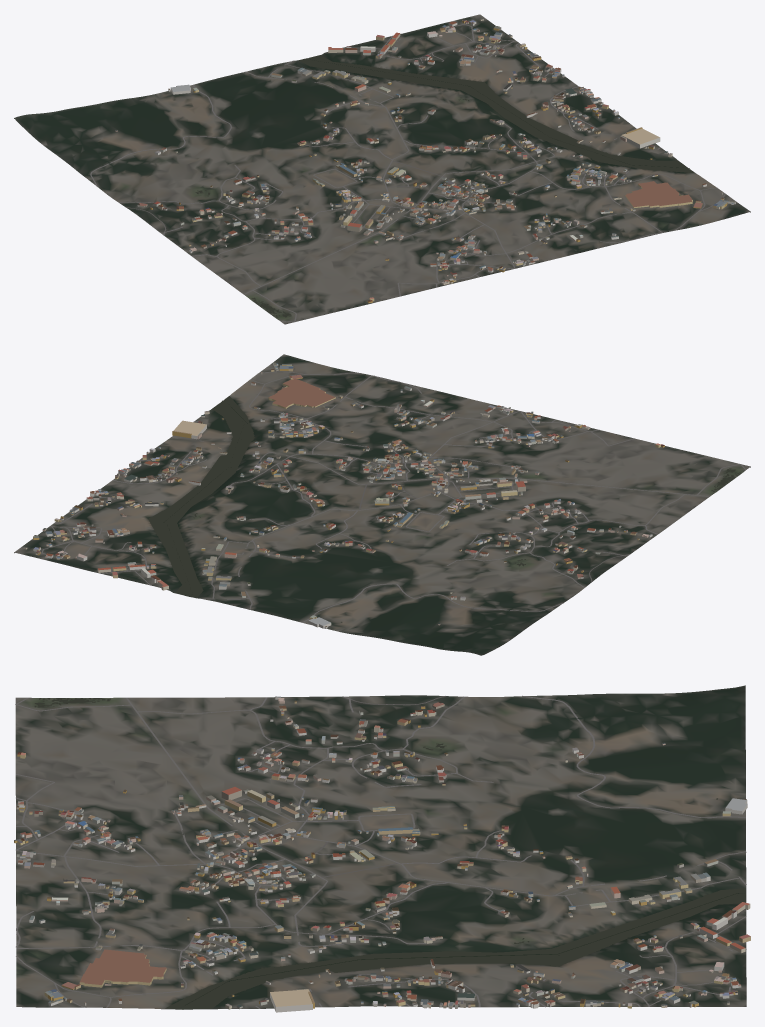
3 renders of one model, top to bottom at view 1: azimuth 30°, elevation 25°; view 2: azimuth 150°, elevation 25°; view 3: azimuth 270°, elevation 25°, orthographic. The views are drawn at different scales.
Visible parts, largest first — view 1: ground, buildings, roads, water; view 2: ground, buildings, roads, water; view 3: ground, buildings, roads, water.
Boxes of the visible parts, bbox=[...] form: ground: bbox=[14, 14, 750, 324]; buildings: bbox=[115, 18, 735, 303]; roads: bbox=[90, 24, 725, 322]; water: bbox=[173, 55, 695, 317]; ground: bbox=[14, 354, 750, 655]; buildings: bbox=[23, 362, 664, 628]; roads: bbox=[41, 371, 746, 622]; water: bbox=[148, 396, 741, 622]; ground: bbox=[15, 685, 746, 1009]; buildings: bbox=[14, 696, 750, 1012]; roads: bbox=[15, 695, 746, 1008]; water: bbox=[34, 698, 746, 1009].
Size of the model in its own units: 1416 by 39.2 by 1415.
